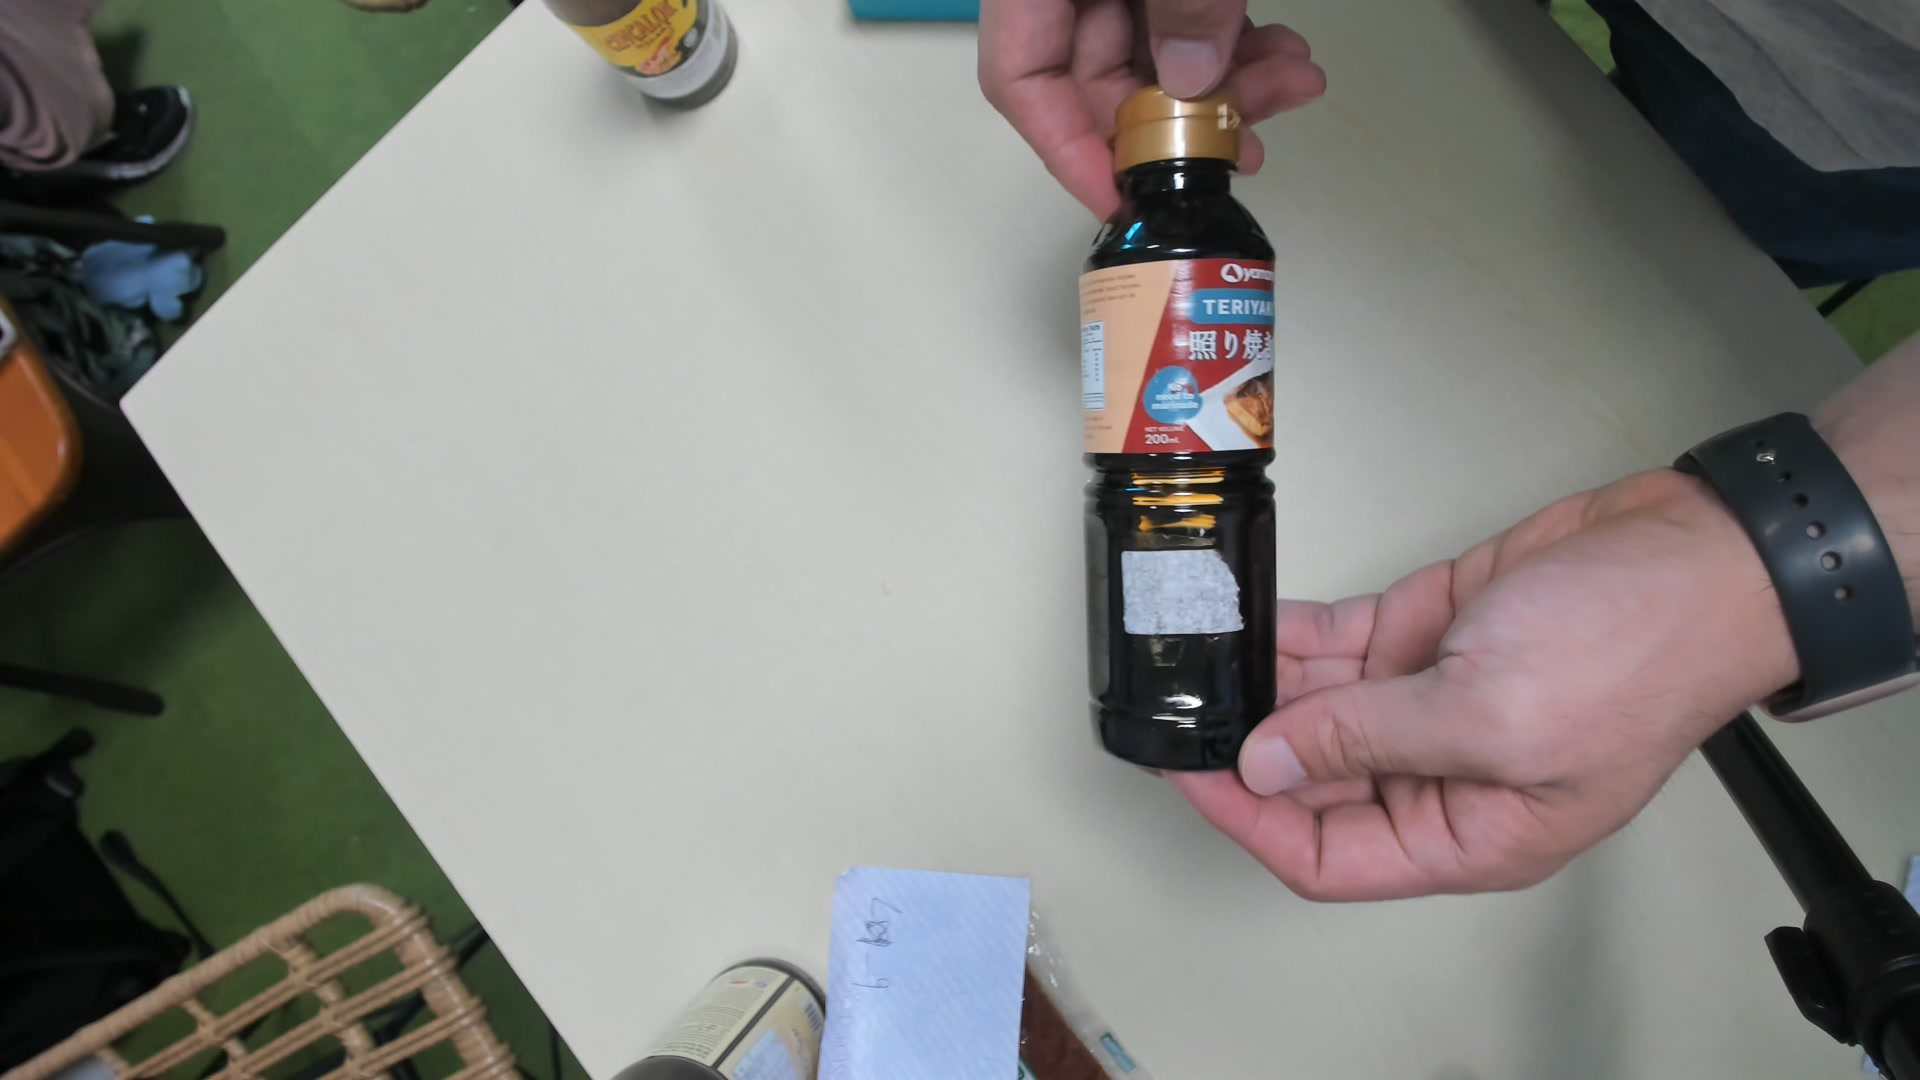OtherSauceDressingSoupbasePaste_200-299g_Halal_NonHealthy: (1077, 88, 1284, 775)
